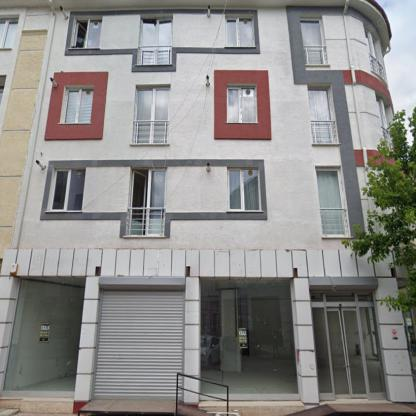door: (325, 304, 368, 399)
window: (199, 278, 300, 400), (1, 278, 85, 398), (311, 290, 386, 400), (128, 167, 166, 235), (316, 168, 347, 235), (133, 88, 169, 143), (138, 14, 172, 64), (47, 167, 85, 211), (308, 86, 336, 144), (228, 167, 262, 211), (363, 25, 387, 85), (300, 19, 326, 64), (62, 88, 93, 123), (70, 15, 102, 48), (227, 86, 256, 122), (225, 16, 254, 47), (2, 19, 16, 48)
